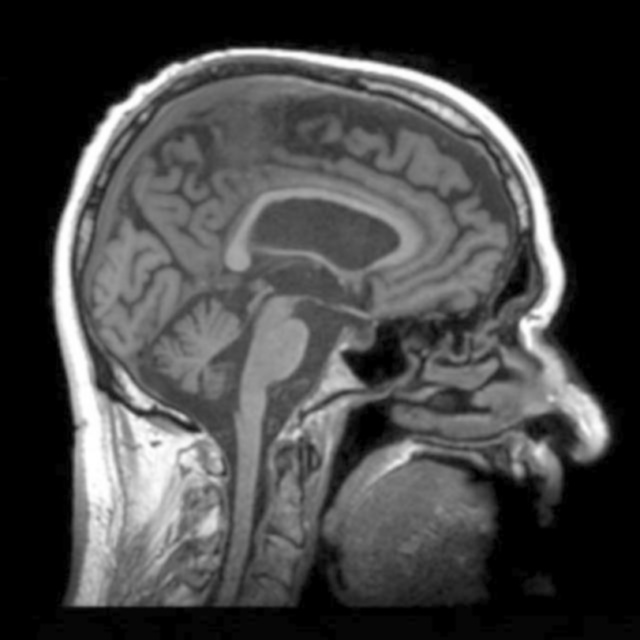glioma tumor: (113, 117, 502, 456)
